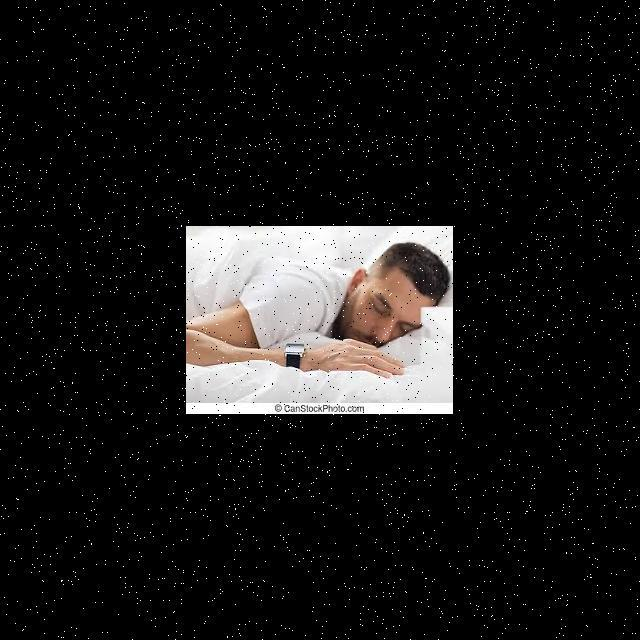watch: (280, 328, 317, 384)
